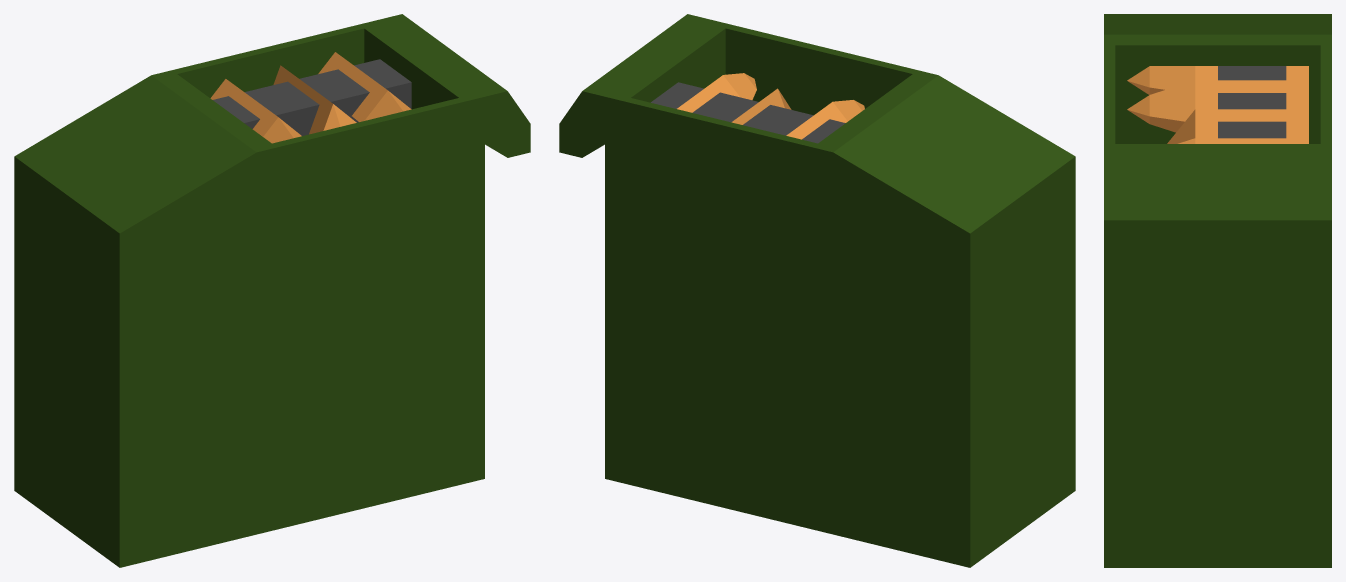
Rendered from chaingun3.gltf.
3 renders of one model, left to right at view 1: azimuth 30°, elevation 25°; view 2: azimuth 150°, elevation 25°; view 3: azimuth 270°, elevation 25°, orthographic. The views are drawn at different scales.
Parts seen in each view (by area): view 1: box, link, bullet (×3); view 2: box, link, bullet (×3); view 3: box, bullet (×4), link.
Part boxes in pixels (x1,y1,x2,y2): box: [14, 14, 530, 567]; link: [213, 59, 411, 135]; bullet (×3): [210, 52, 411, 143]; box: [559, 14, 1075, 567]; link: [651, 82, 845, 143]; bullet (×3): [677, 73, 864, 139]; box: [1104, 14, 1331, 567]; bullet (×4): [1127, 66, 1308, 143]; link: [1218, 66, 1286, 138].
Size of the model in its own units: 0.1406 by 0.125 by 0.0625.
Materials: 3 (3 with a texture image).
